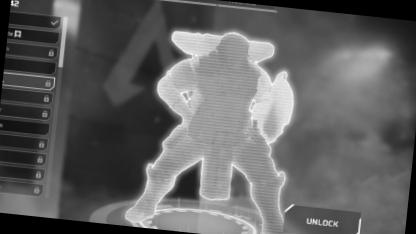Target: (149, 26, 302, 202), (209, 27, 256, 75)
